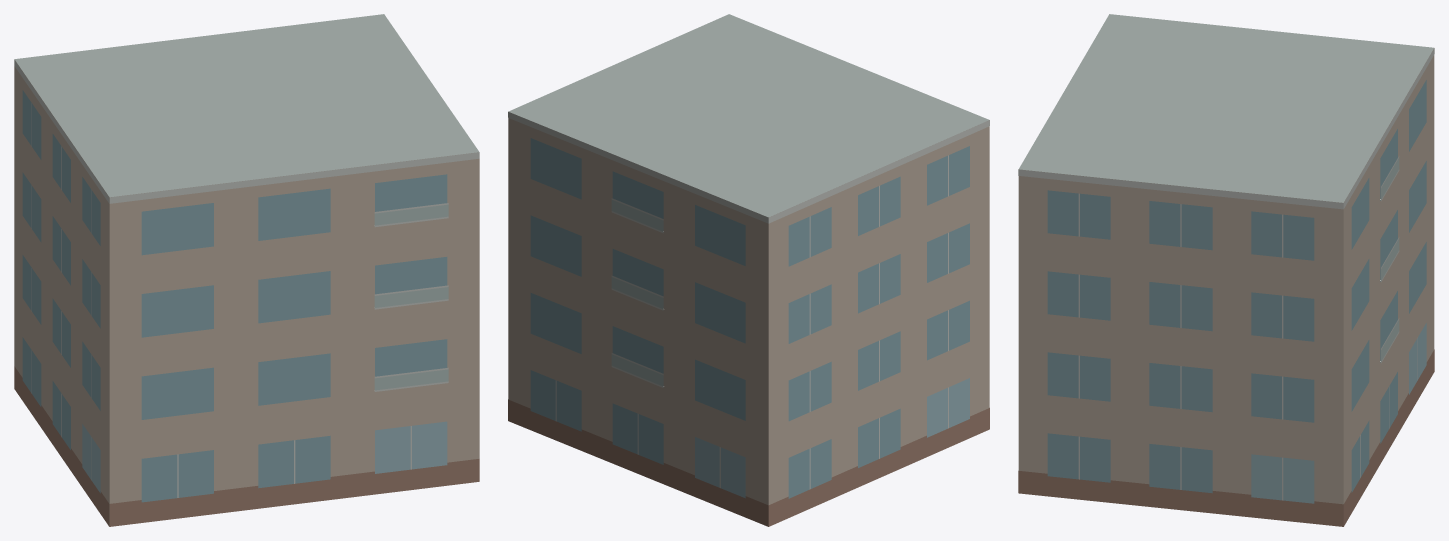
The model's file is survey-upis-32832032.glb.
The picture shows the model from 3 angles, left to right: view 1: azimuth 30°, elevation 25°; view 2: azimuth 150°, elevation 25°; view 3: azimuth 270°, elevation 25°; orthographic projection. The views are drawn at different scales.
Visible parts, largest first — view 1: survey-upis-32832032.tmp; view 2: survey-upis-32832032.tmp; view 3: survey-upis-32832032.tmp.
Boxes of the visible parts, x1,y1,x2,y2 form: survey-upis-32832032.tmp: (14,14,479,526); survey-upis-32832032.tmp: (508,14,989,526); survey-upis-32832032.tmp: (1018,14,1434,526).
Bounding box in the file's own units: 15.27 × 12.2 × 14.21.
